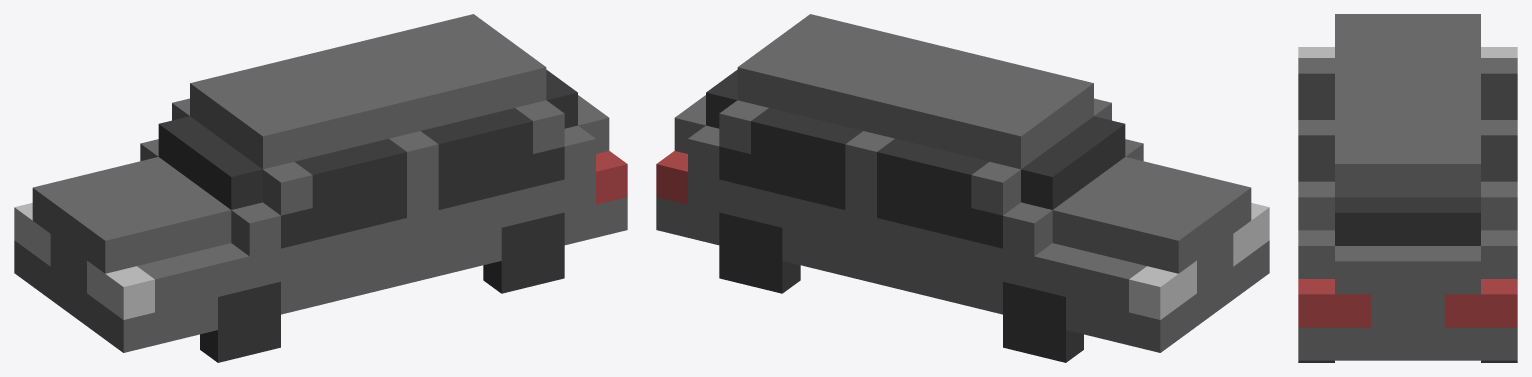
The model's file is car-v3-grey.gltf.
3 views of the same model, side by side, from view 1: azimuth 30°, elevation 25°; view 2: azimuth 150°, elevation 25°; view 3: azimuth 270°, elevation 25° (orthographic).
Parts seen in each view (by area): view 1: model, wheels; view 2: model, wheels; view 3: model, wheels.
Boxes of the visible parts, x1,y1,x2,y2 form: model: (14, 14, 627, 352); wheels: (200, 212, 564, 362); model: (656, 14, 1269, 352); wheels: (719, 212, 1083, 362); model: (1298, 14, 1517, 360); wheels: (1298, 360, 1517, 362).
Bounding box in the file's own units: 1.6 × 0.6 × 0.6.
Materials: 2 (2 with a texture image).
